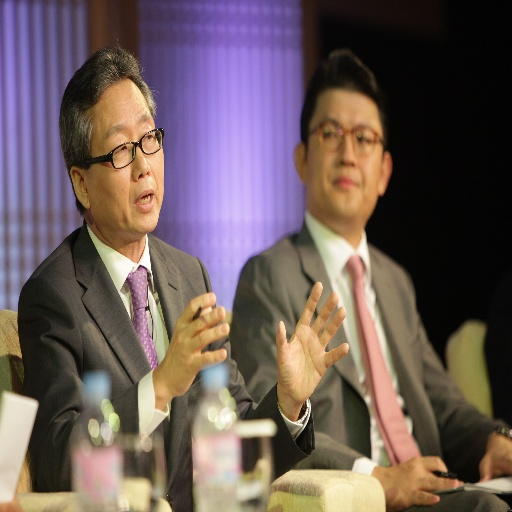hand: (274, 281, 346, 407), (160, 289, 230, 399), (381, 453, 465, 511), (475, 427, 511, 483)
